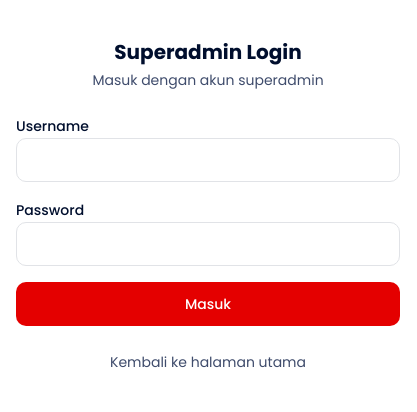
it: SuperadminSection - login gate › shows network error on fetch failure
The image size is (417, 412).
Type "admin" into the field labelled "Username" at (208, 160), box [16, 138, 400, 182]
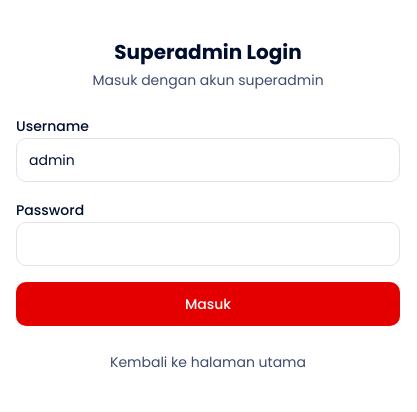
Type "pass" into the password field labelled "Password" at (208, 244), box [16, 222, 400, 266]
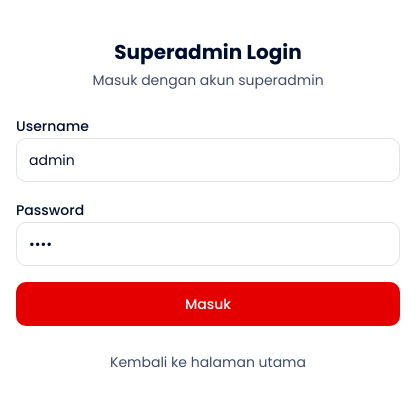
Submit the text "Masuk", box [16, 114, 400, 326]
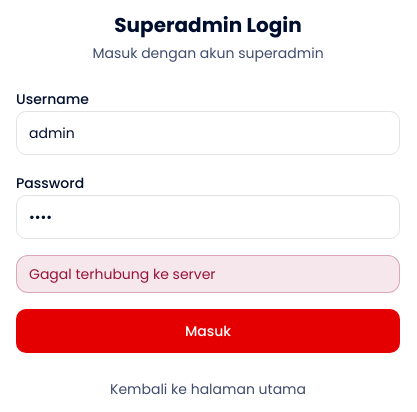
Now the text "Gagal terhubung ke server" is shown, box [29, 264, 216, 284]
